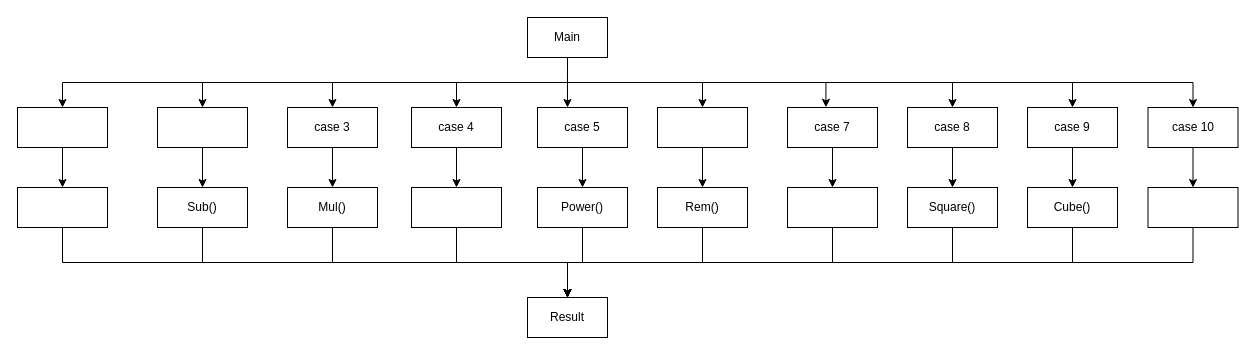
Some shapes in this 1256 by 355 pixel diagram are drawn without their labels. Each missing label, with the centre of its shape:
"Add()" goes at point (62, 207).
"case 1" goes at point (62, 127).
"case 2" goes at point (202, 127).
"case 6" goes at point (702, 127).
"Div()" goes at point (456, 207).
"Exit" goes at point (1192, 207).
"Fact()" goes at point (832, 207).
